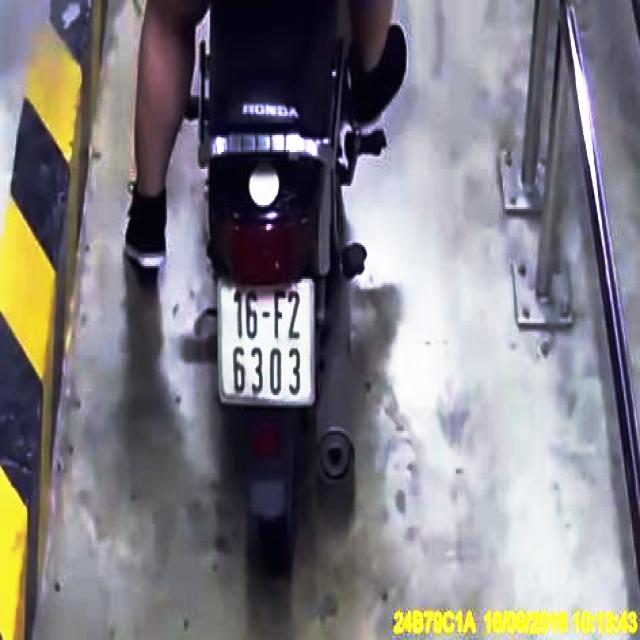license_plate: (219, 277, 317, 407)
